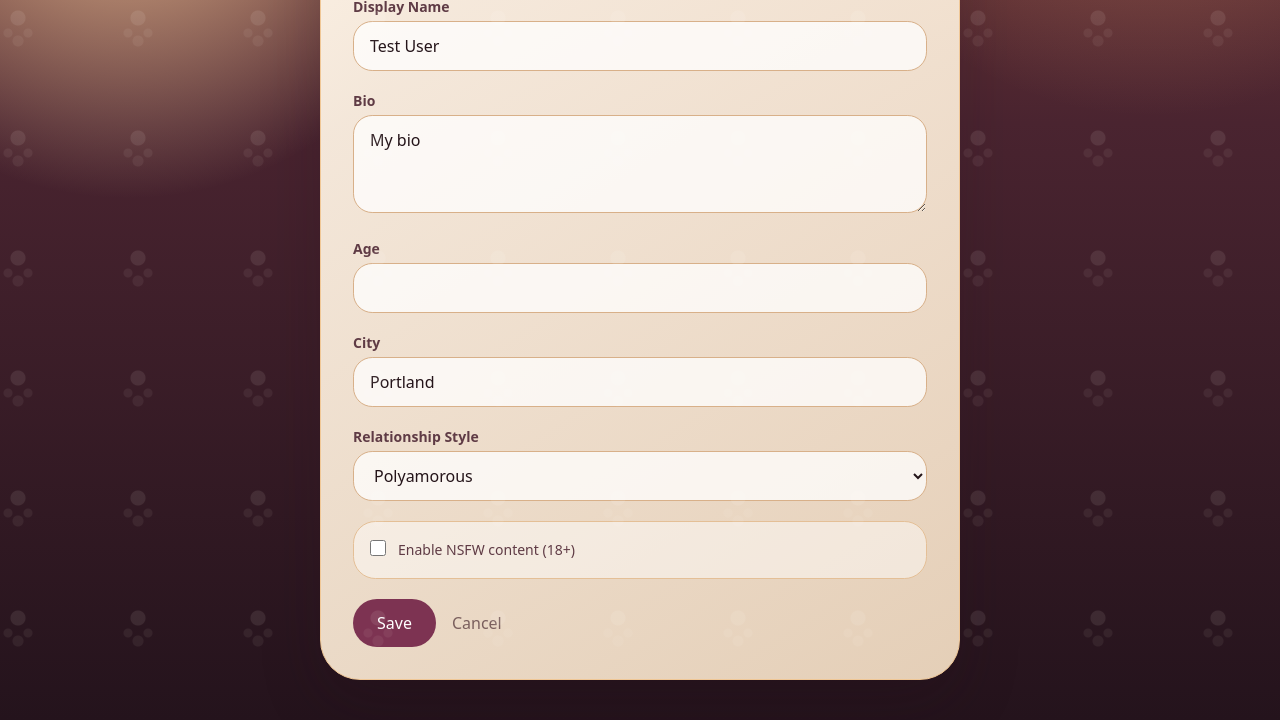
Scenario: ProfileEditPage › closes modal and reverts toggle when Cancel is clicked in modal
This screenshot has width=1280, height=720.
(page scrolled)
Step 1. Click the checkbox labelled "Enable NSFW content (18+)" → (378, 548), box x1=370 y1=540 x2=386 y2=556
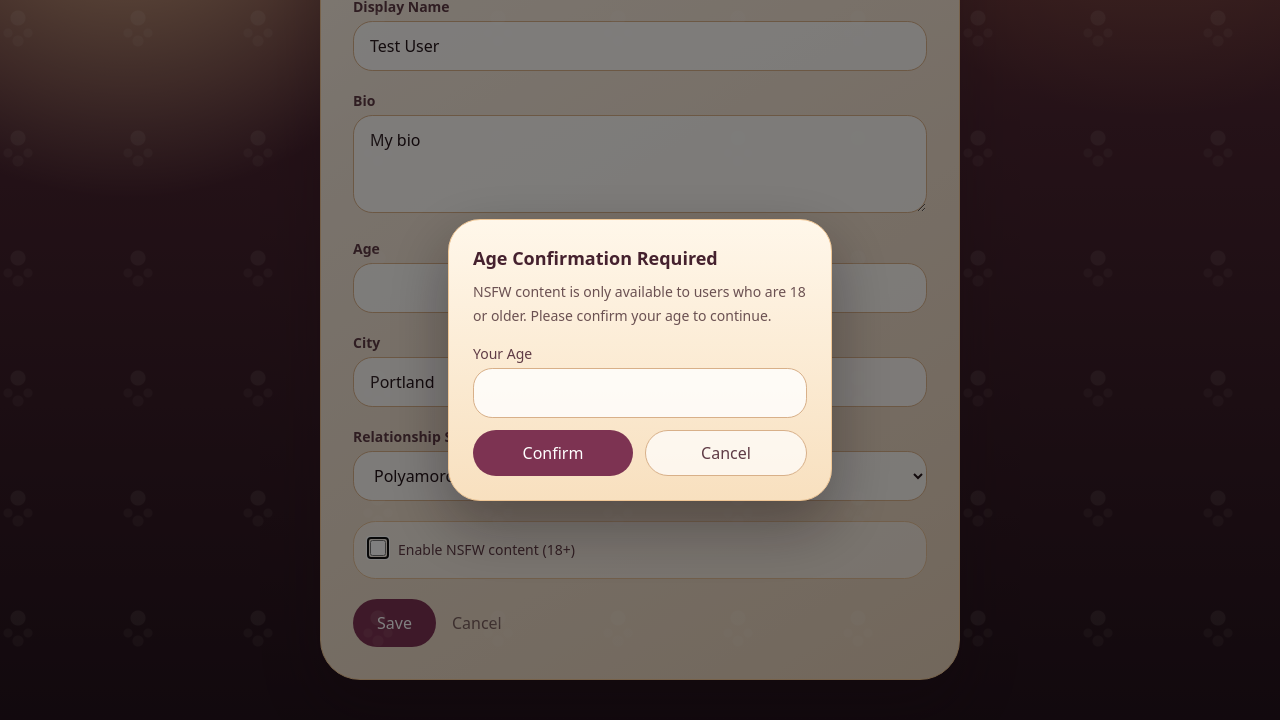
Now the dialog is shown
Step 2. Click the button "Cancel" → (726, 453), box x1=645 y1=430 x2=807 y2=476
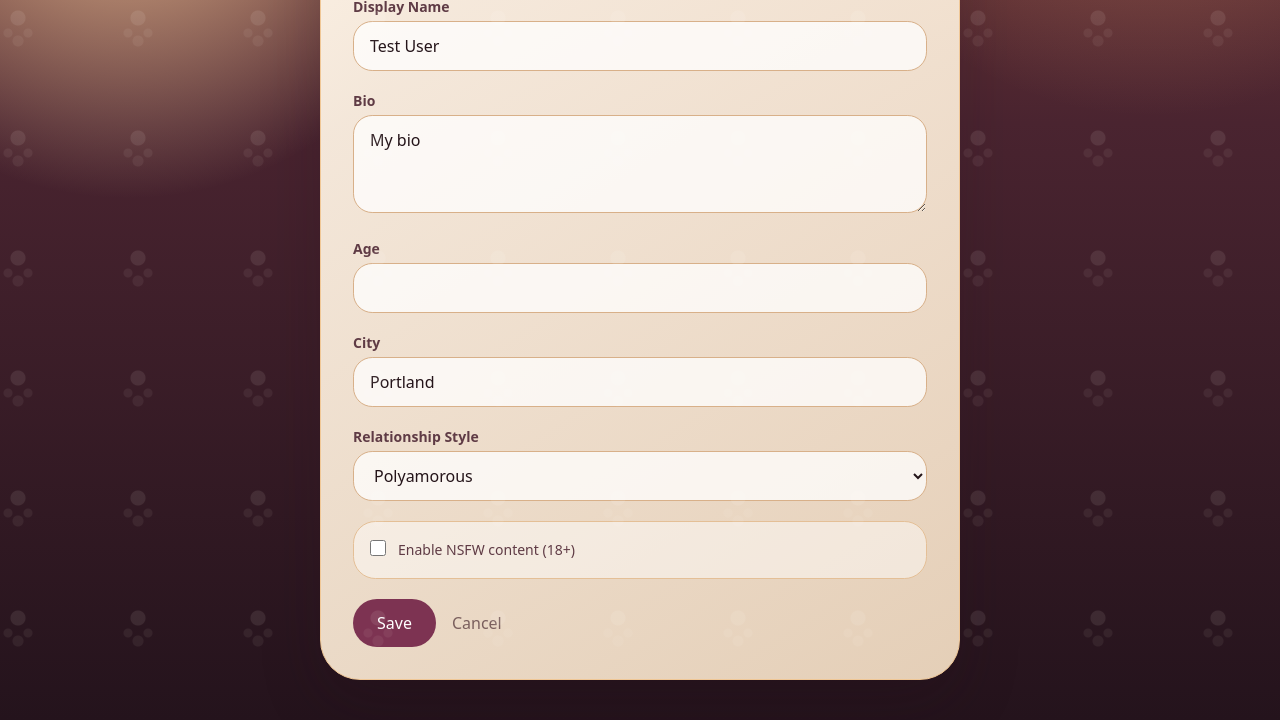
Expected: the checkbox labelled "Enable NSFW content (18+)" is not checked, x1=370 y1=540 x2=386 y2=556
Now the dialog is gone
